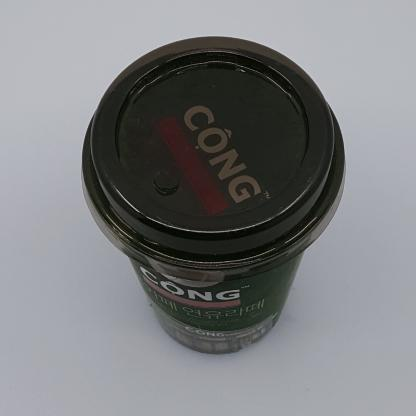---------: (81, 36, 345, 354)
